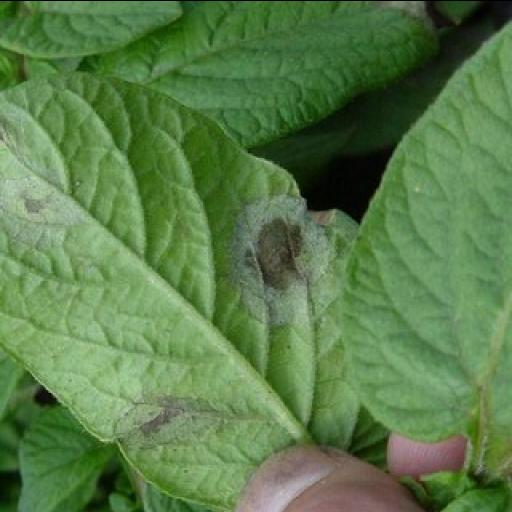Late Blight: (2, 69, 366, 509)
